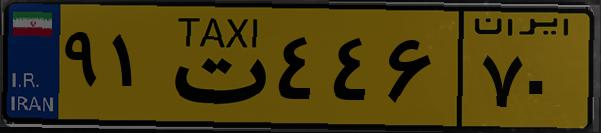0: (525, 38, 570, 115)
1: (110, 28, 158, 98)
4: (270, 28, 330, 110), (330, 28, 385, 110)
6: (385, 28, 445, 110)
7: (475, 38, 525, 113)
9: (57, 26, 110, 100)
ت: (158, 12, 270, 120)
